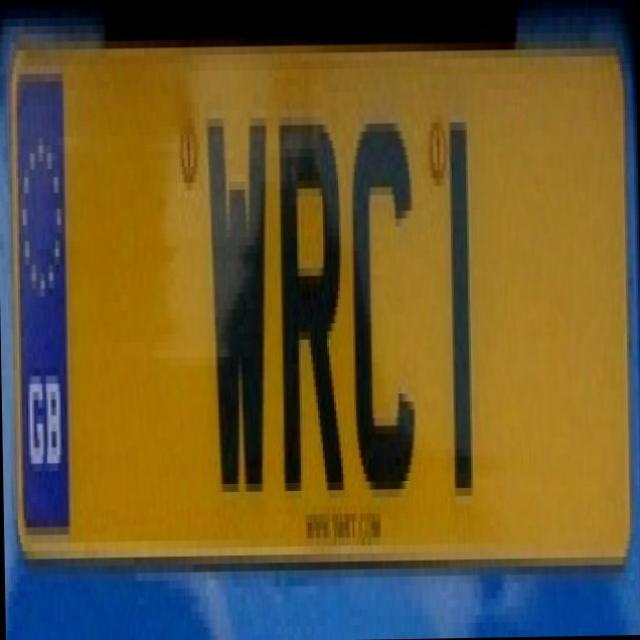License Plate: (1, 12, 640, 604)
